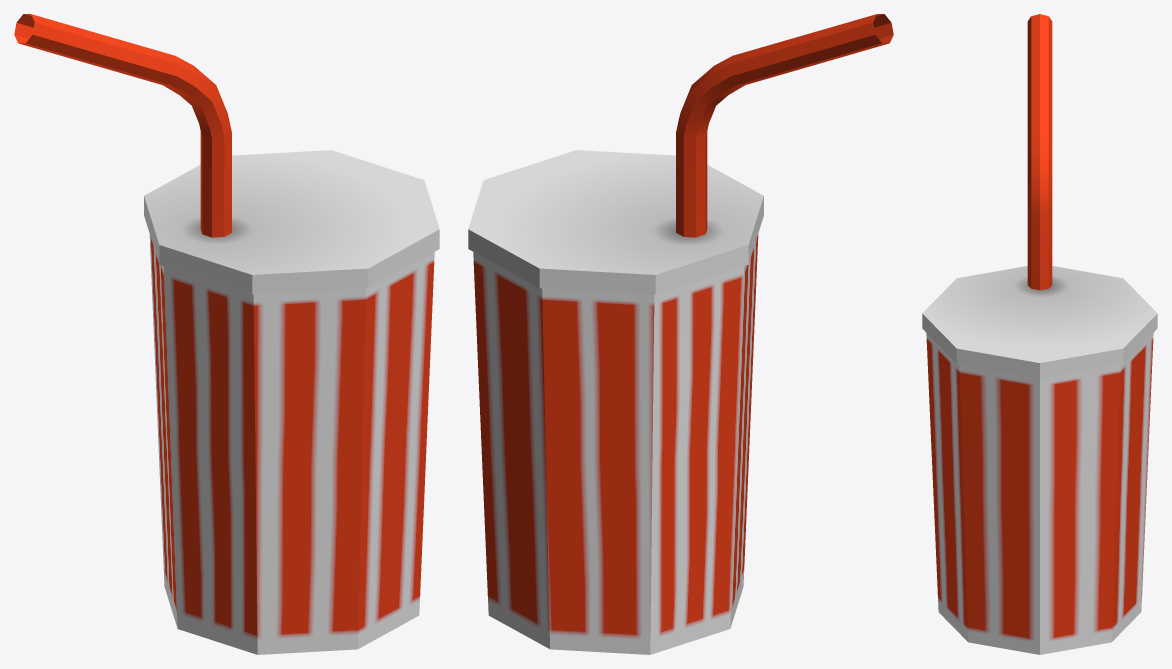
The model's file is JuiceCupFinishedProductB.fbx.
3 renders of one model, left to right at view 1: azimuth 30°, elevation 25°; view 2: azimuth 150°, elevation 25°; view 3: azimuth 270°, elevation 25°, orthographic. The views are drawn at different scales.
Parts seen in each view (by area): view 1: JuiceCupFinishedProductB; view 2: JuiceCupFinishedProductB; view 3: JuiceCupFinishedProductB.
Part boxes in pixels (x1=…): JuiceCupFinishedProductB: x1=14, y1=14, x2=439, y2=654; JuiceCupFinishedProductB: x1=468, y1=14, x2=893, y2=654; JuiceCupFinishedProductB: x1=922, y1=14, x2=1157, y2=654.
Bounding box in the file's own units: 161 × 247 × 105.
